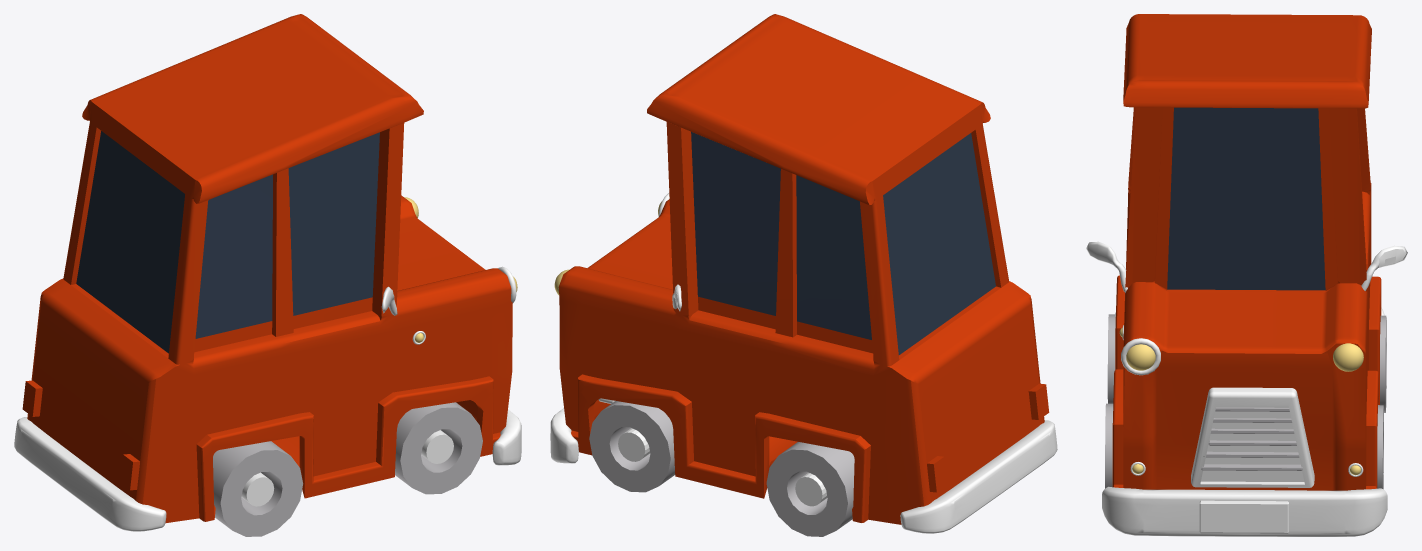
File: car.fbx
The picture shows the model from 3 angles, left to right: view 1: azimuth 30°, elevation 25°; view 2: azimuth 150°, elevation 25°; view 3: azimuth 270°, elevation 25°; orthographic projection. The views are drawn at different scales.
Visible parts, largest first — view 1: pasted__pasted__pasted__pPipe21; view 2: pasted__pasted__pasted__pPipe21; view 3: pasted__pasted__pasted__pPipe21.
Part boxes in pixels (box(x1,y1,x2,y2)): pasted__pasted__pasted__pPipe21: box(14, 14, 521, 536); pasted__pasted__pasted__pPipe21: box(550, 14, 1057, 536); pasted__pasted__pasted__pPipe21: box(1086, 14, 1407, 536).
Size of the model in its own units: 30 by 27.91 by 20.12.
